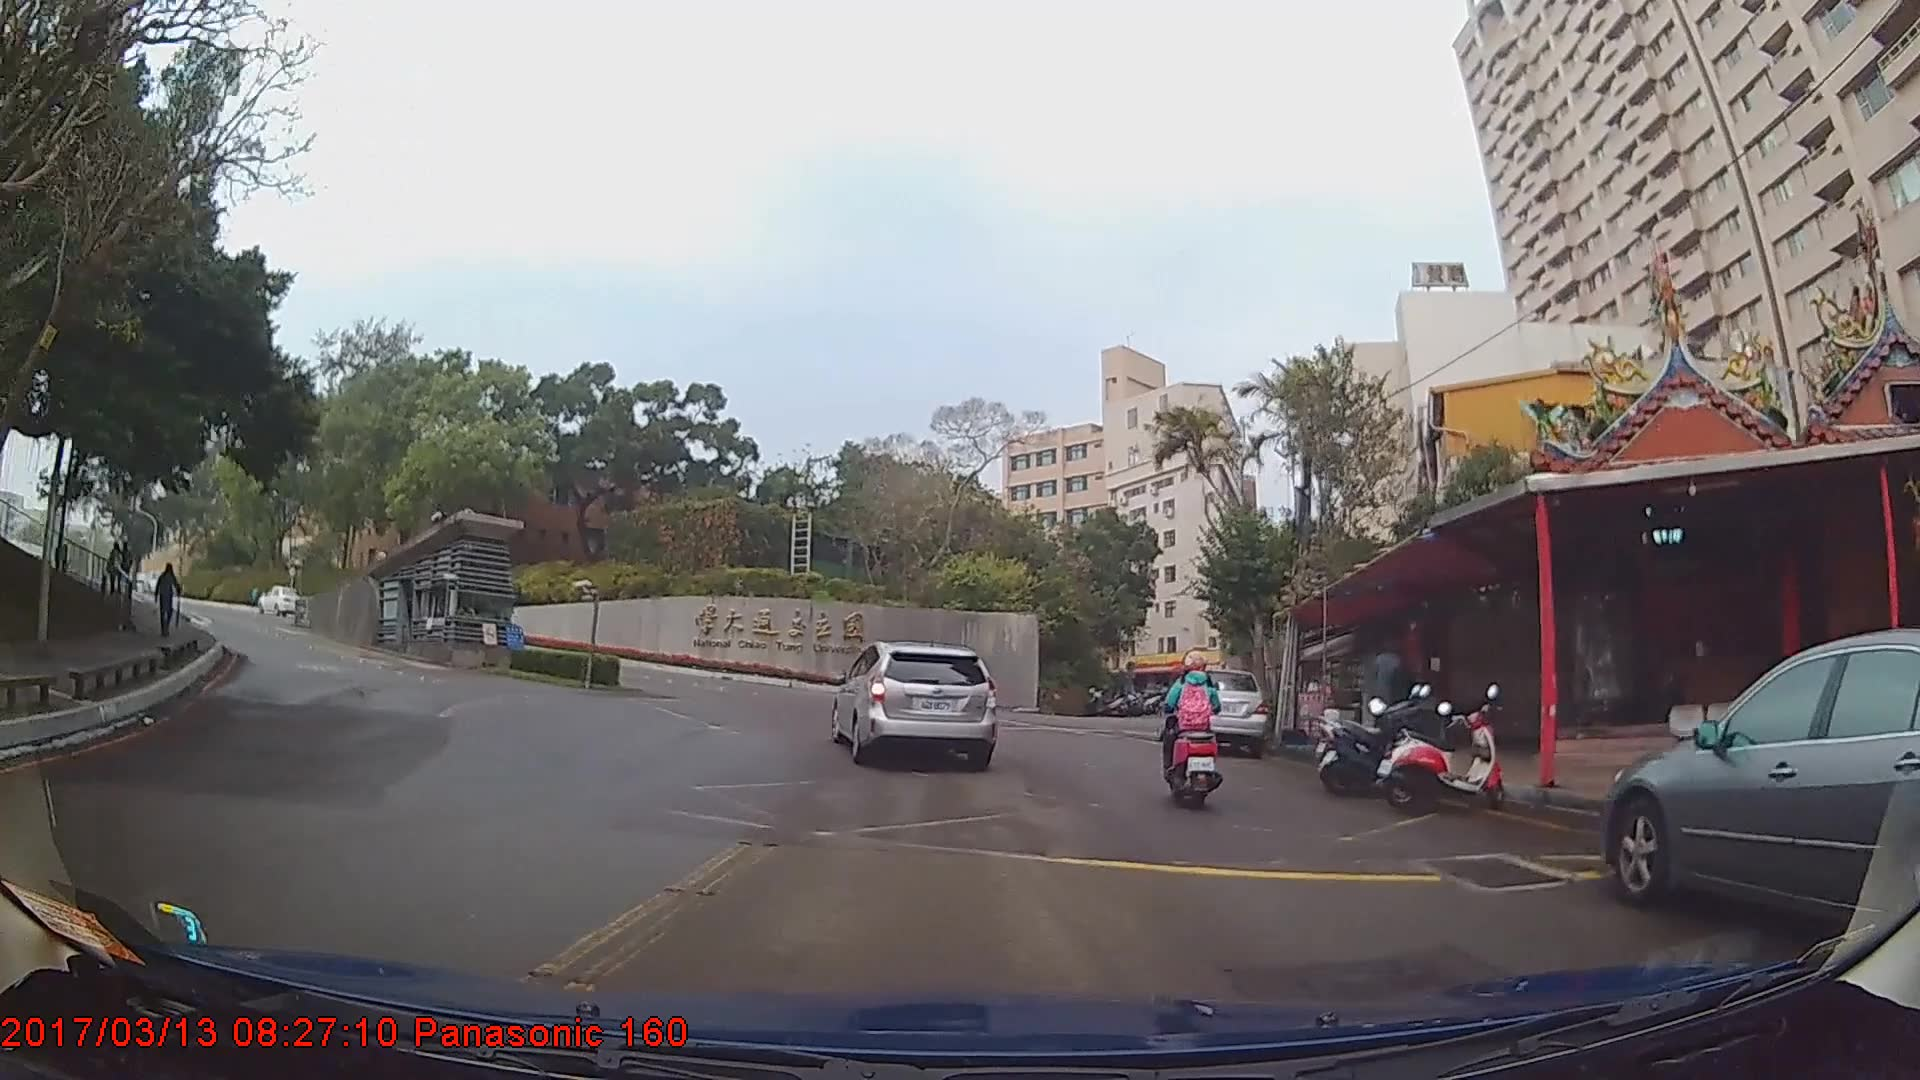pedestrian: (1383, 645, 1424, 748), (153, 565, 180, 639), (107, 538, 127, 601), (117, 542, 137, 597)
rider: (1154, 650, 1230, 812)
vehicle: (1601, 626, 1920, 928), (830, 639, 995, 769), (1157, 667, 1267, 752), (258, 588, 301, 618)
